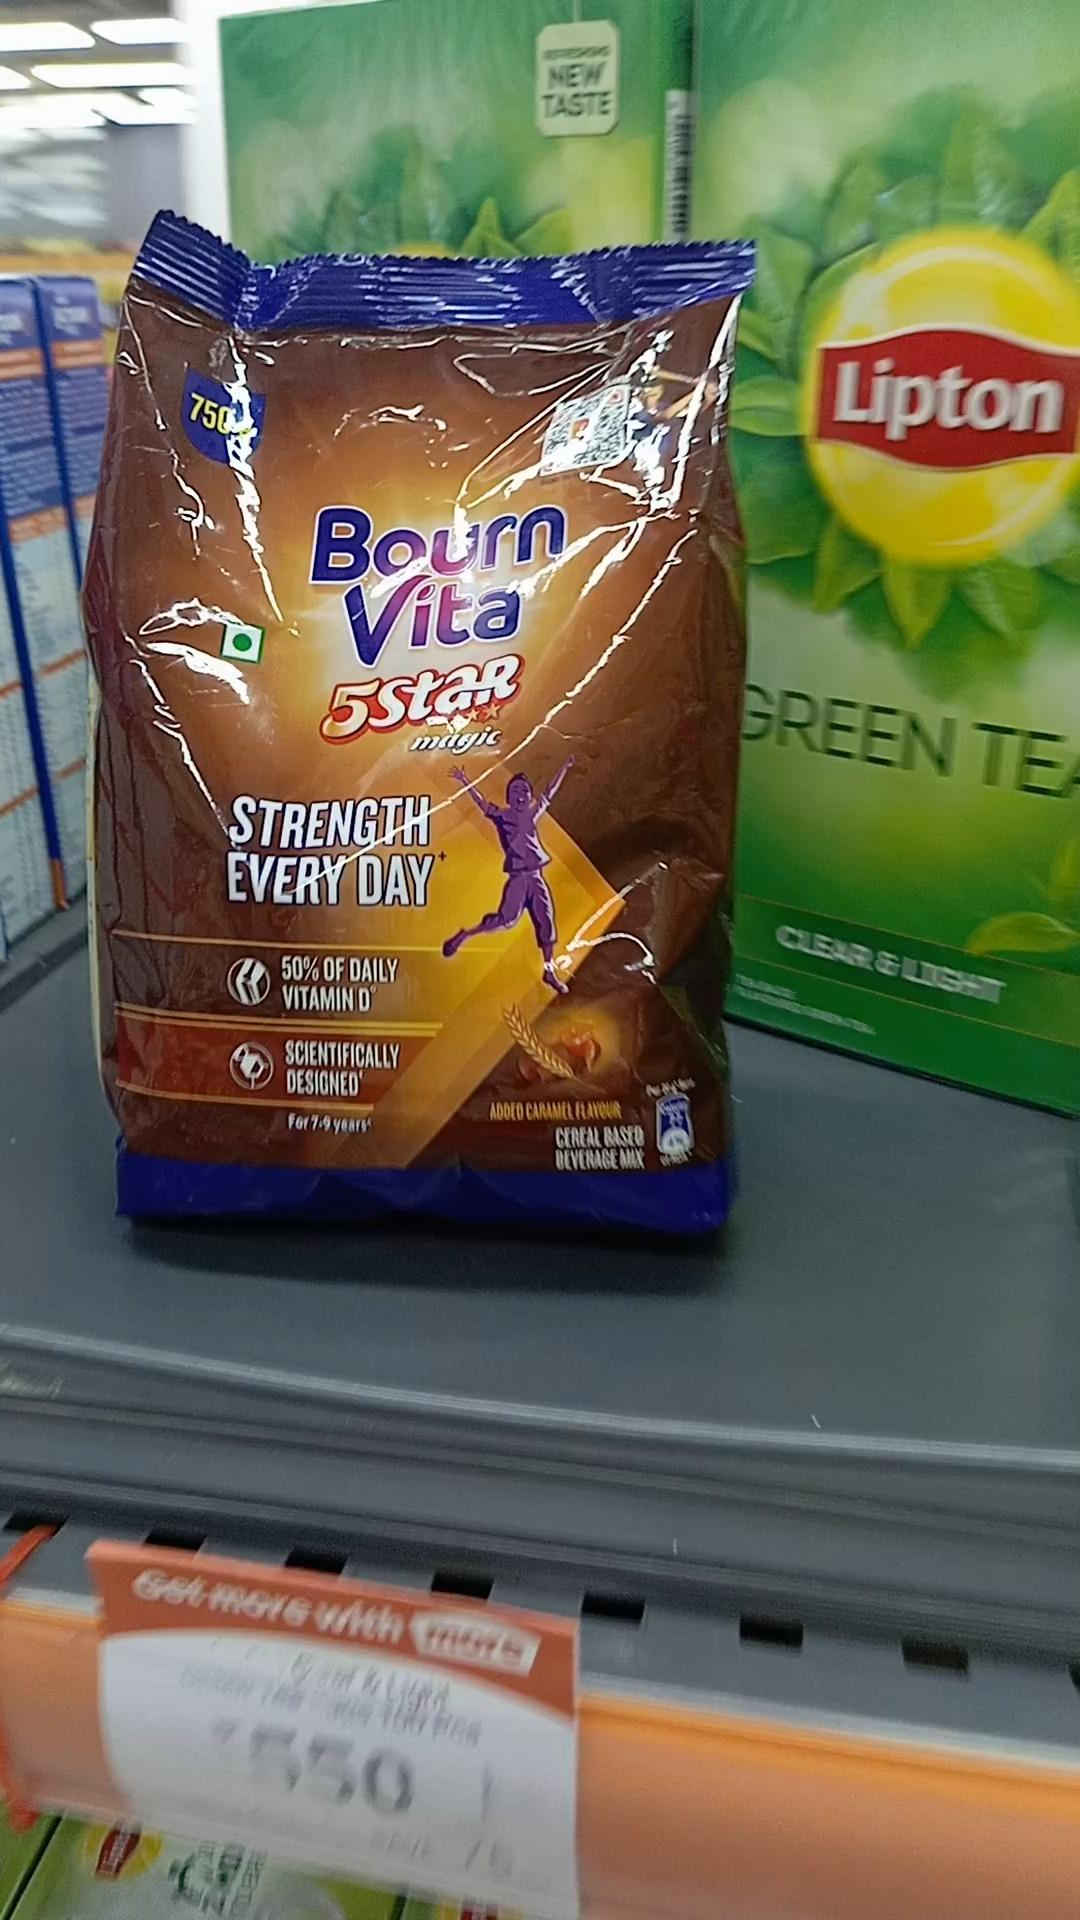BOURN_VITA_FIVE_STAR_MAGIC_750_G_POUCH: (107, 202, 728, 1230)
